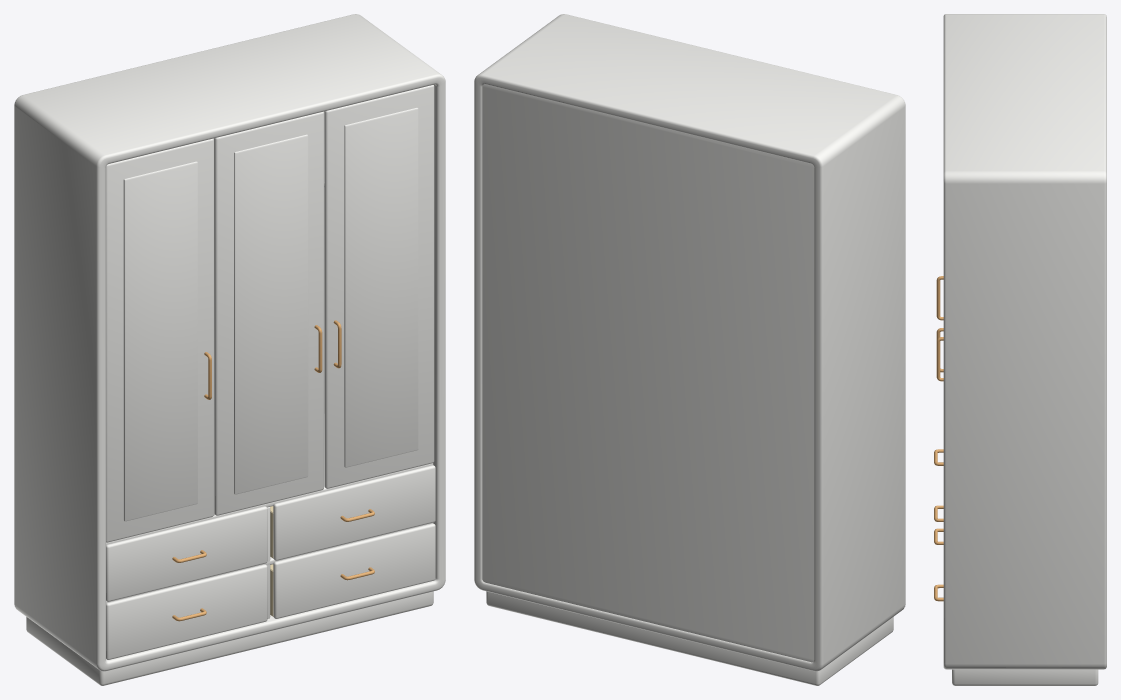
The model's file is guarda_roupa_3portas_gavetas_branco.glb.
The picture shows the model from 3 angles, left to right: view 1: azimuth 30°, elevation 25°; view 2: azimuth 150°, elevation 25°; view 3: azimuth 270°, elevation 25°; orthographic projection. The views are drawn at different scales.
Parts seen in each view (by area): view 1: guarda_roupa_3portas_gavetas_branco, porta_3, porta_2, porta_1, gaveta_2, gaveta_4, gaveta_1, gaveta_3; view 2: guarda_roupa_3portas_gavetas_branco; view 3: guarda_roupa_3portas_gavetas_branco.
Part boxes in pixels (x1=…): guarda_roupa_3portas_gavetas_branco: x1=14, y1=14, x2=445, y2=685; porta_3: x1=324, y1=85, x2=434, y2=488; porta_2: x1=214, y1=111, x2=323, y2=515; porta_1: x1=106, y1=138, x2=213, y2=542; gaveta_2: x1=270, y1=523, x2=435, y2=618; gaveta_4: x1=270, y1=465, x2=435, y2=560; gaveta_1: x1=106, y1=564, x2=267, y2=659; gaveta_3: x1=106, y1=506, x2=267, y2=601; guarda_roupa_3portas_gavetas_branco: x1=474, y1=14, x2=905, y2=685; guarda_roupa_3portas_gavetas_branco: x1=943, y1=14, x2=1106, y2=685.
Size of the model in its own units: 1.38 by 2.02 by 0.6135.
1 material, 1 textured.
